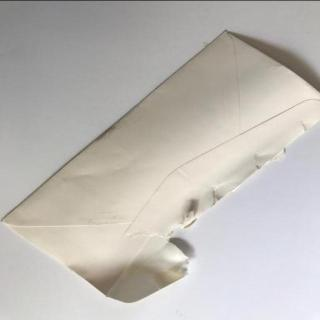Anorganik: (8, 32, 320, 304)
